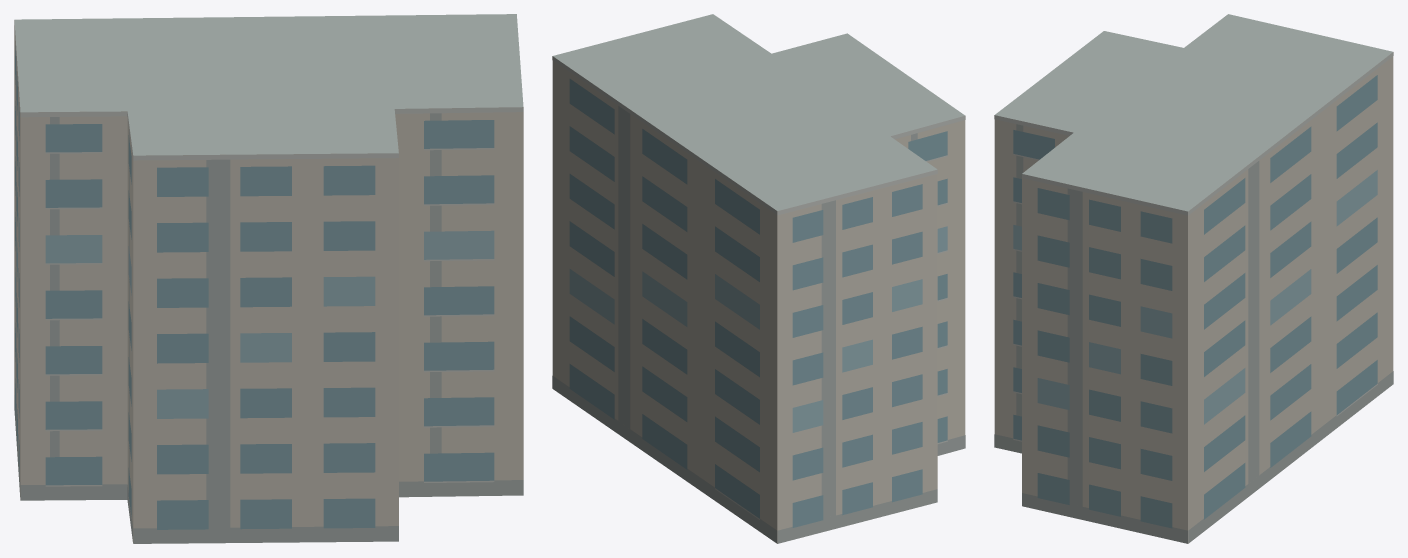
File: survey-upis-32842789.glb
3 renders of one model, left to right at view 1: azimuth 30°, elevation 25°; view 2: azimuth 150°, elevation 25°; view 3: azimuth 270°, elevation 25°, orthographic. The views are drawn at different scales.
Visible parts, largest first — view 1: survey-upis-32842789.tmp; view 2: survey-upis-32842789.tmp; view 3: survey-upis-32842789.tmp.
Boxes of the visible parts, box(x1,y1,x2,y2) form: survey-upis-32842789.tmp: box(14, 14, 523, 543); survey-upis-32842789.tmp: box(552, 14, 965, 543); survey-upis-32842789.tmp: box(994, 14, 1393, 543).
Size of the model in its own units: 24.42 by 19.15 by 20.84.
